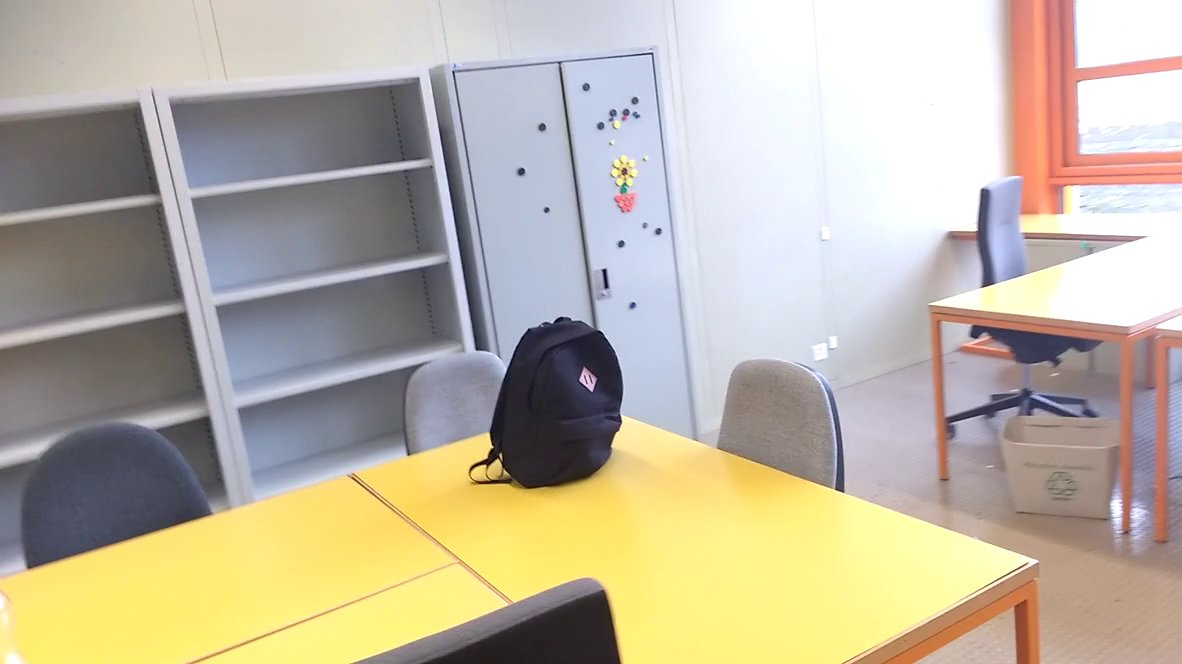bag: (462, 311, 629, 491)
box: (992, 404, 1131, 530)
chair: (926, 179, 1116, 456), (13, 409, 224, 581), (707, 350, 871, 521), (401, 346, 530, 469)
